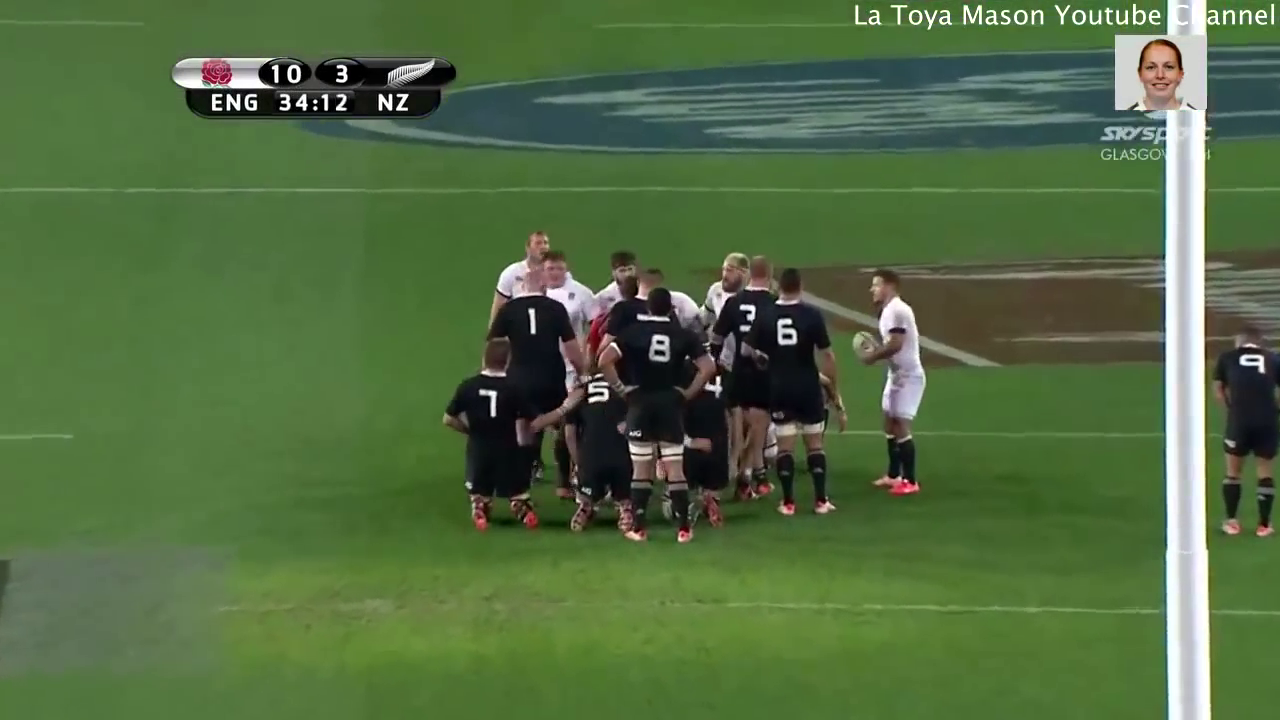player: (593, 281, 726, 555), (737, 263, 861, 537), (481, 269, 595, 523), (843, 269, 951, 525), (436, 334, 560, 532), (712, 246, 785, 490), (1209, 316, 1280, 547), (484, 220, 562, 344), (526, 247, 611, 337), (686, 238, 757, 321)
